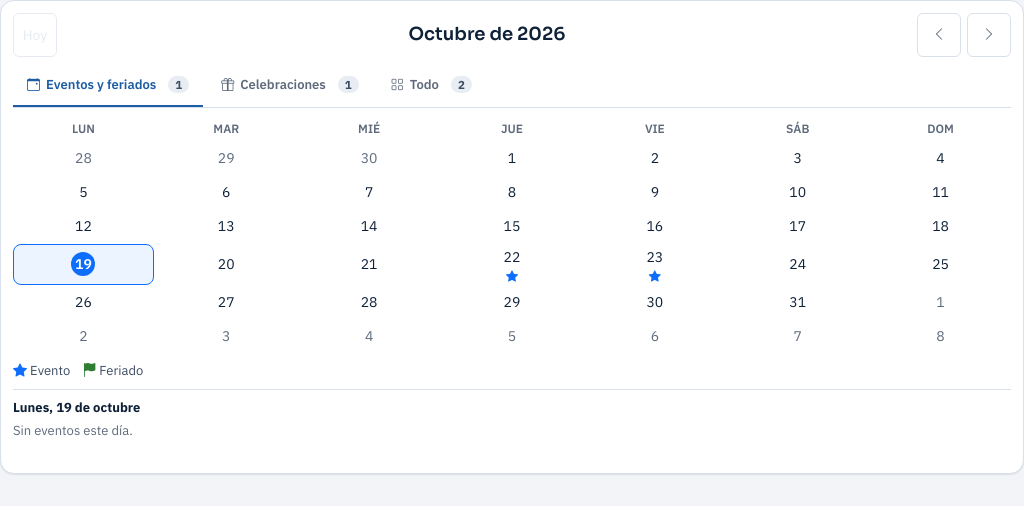
El calendario recogido › en el mes ampliado, el día dice qué tiene al tocarlo (sin globo)
Click the cell named "jueves, 22 de octubre: Evento, Feria de salud" at (512, 264), box [442, 244, 582, 285]
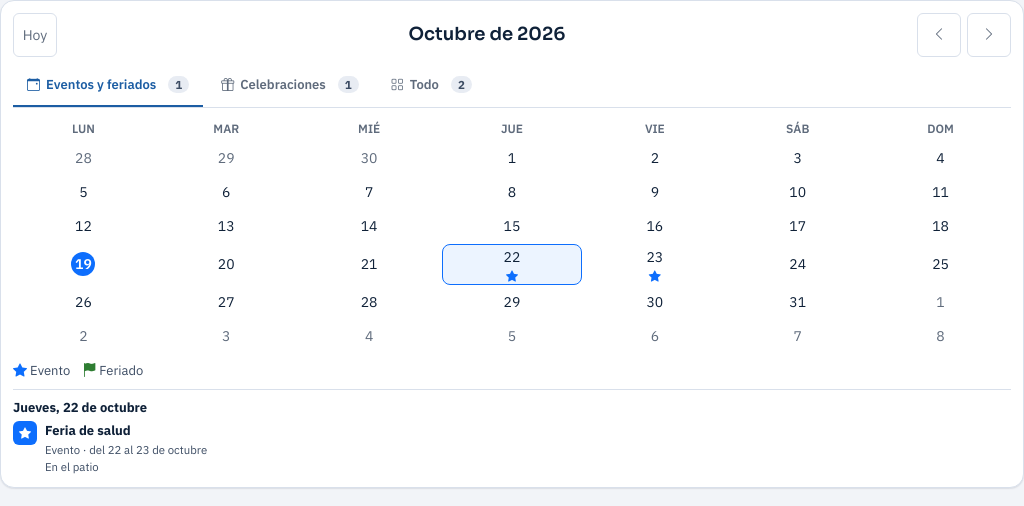
Now the text "Evento · del 22 al 23 de octubre" is shown, box [45, 440, 207, 458]
